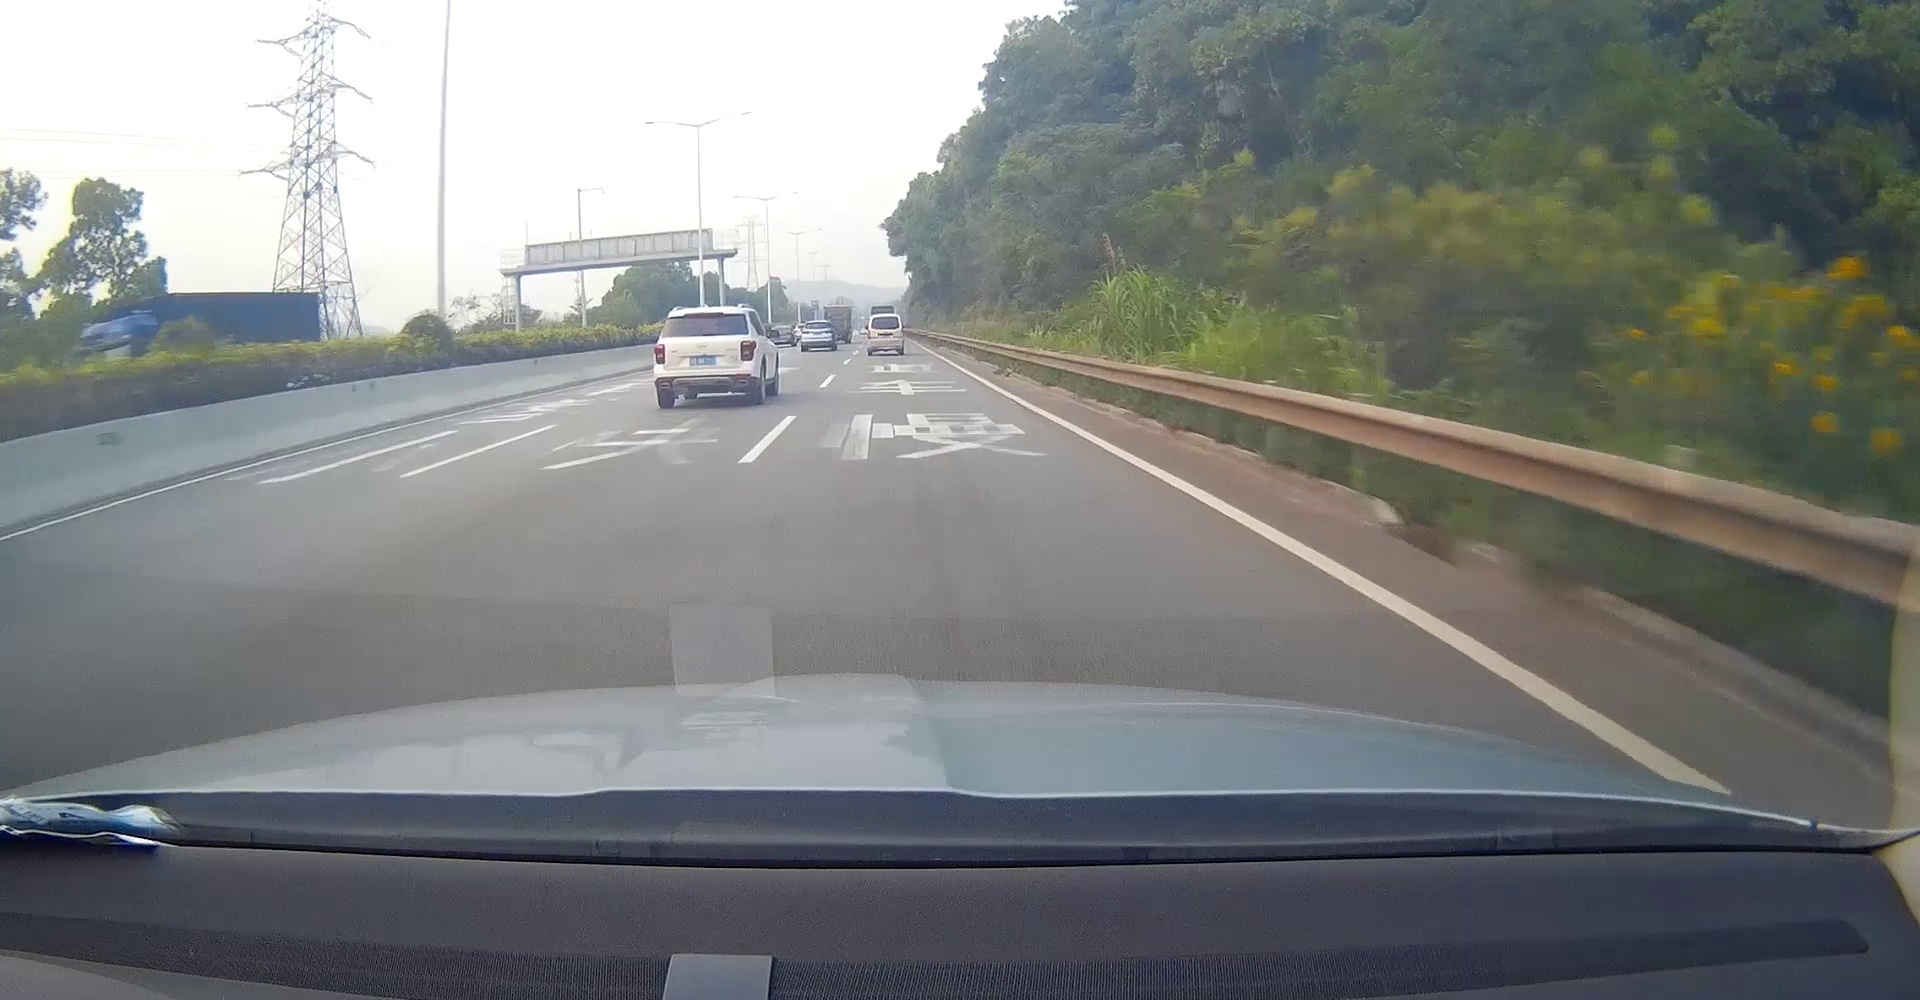L_light: (654, 343, 665, 365), (867, 330, 872, 339), (803, 330, 809, 334)
R_light: (740, 340, 757, 360), (824, 329, 832, 332), (900, 329, 903, 338)
T_light: (684, 312, 723, 316), (814, 322, 822, 325), (883, 316, 888, 319)
day-no: (654, 306, 758, 409), (867, 313, 903, 355), (801, 320, 833, 352)
